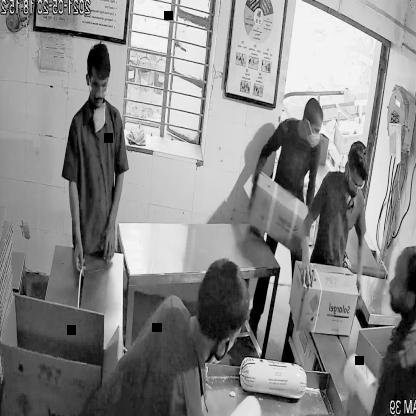goggles: (86, 74, 109, 99)
